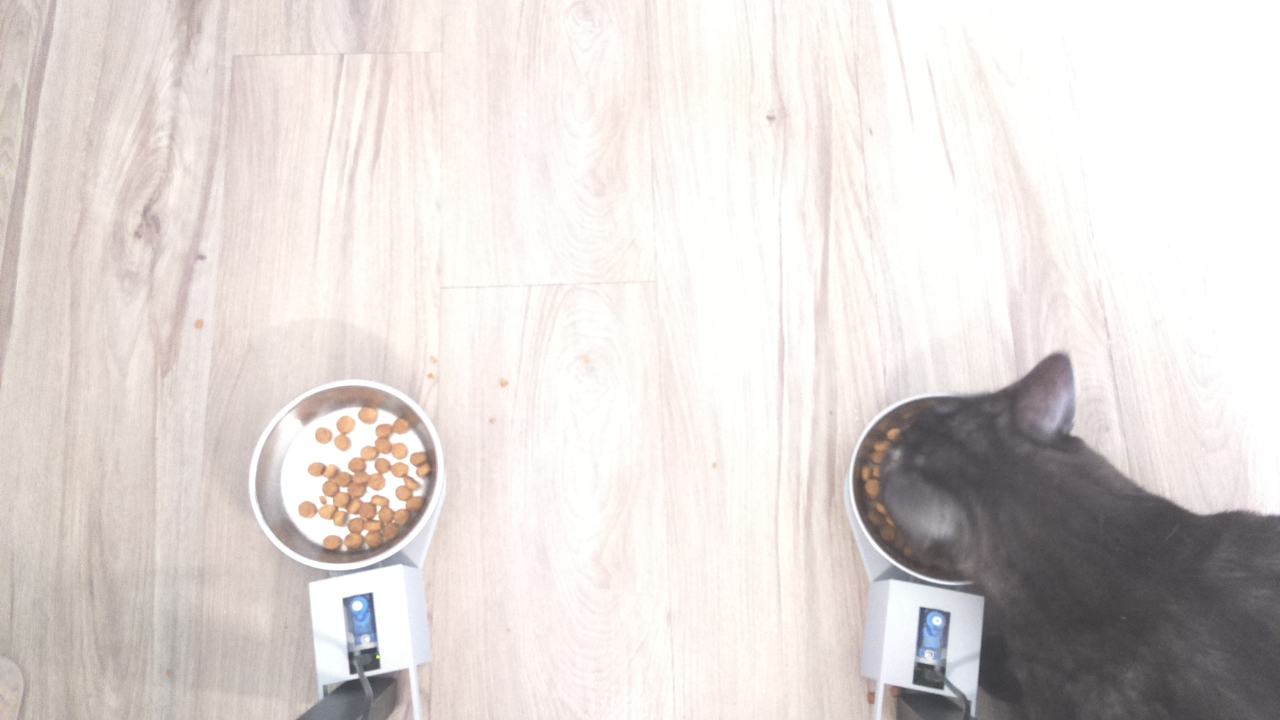open_bowl: (244, 371, 463, 572)
saki_eating: (848, 347, 1157, 611)
